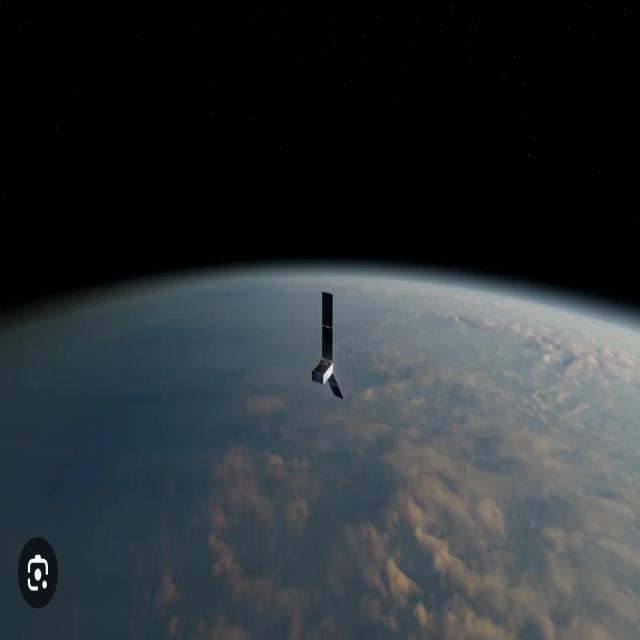satellite: (311, 291, 342, 397)
